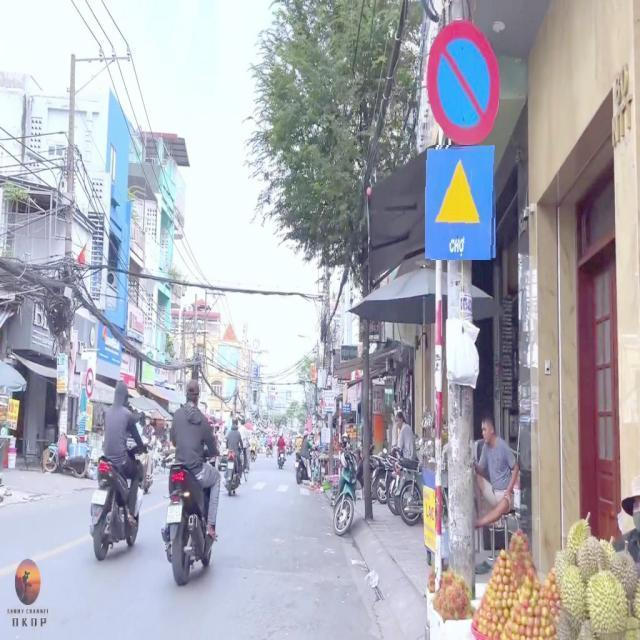106-cam-oto-tai: (86, 369, 94, 397)
131a-cam-do-xe: (426, 22, 502, 142)
442-cho: (426, 146, 498, 260)
